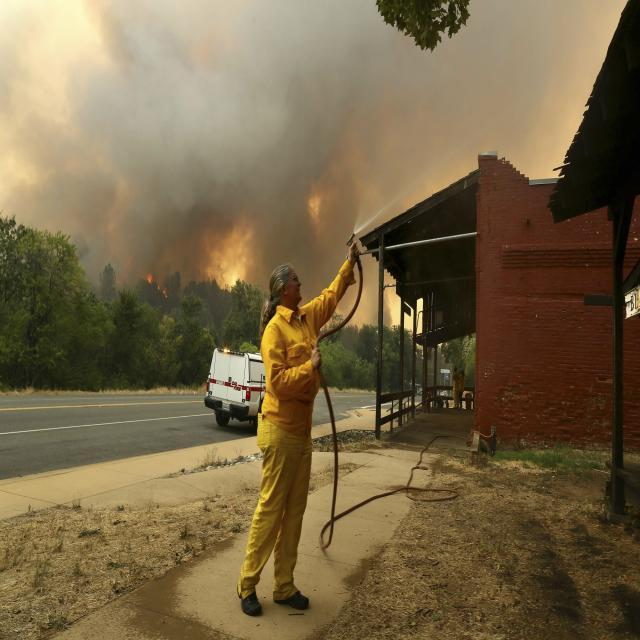Fire: (144, 270, 170, 299)
Smoke: (0, 0, 626, 302)
